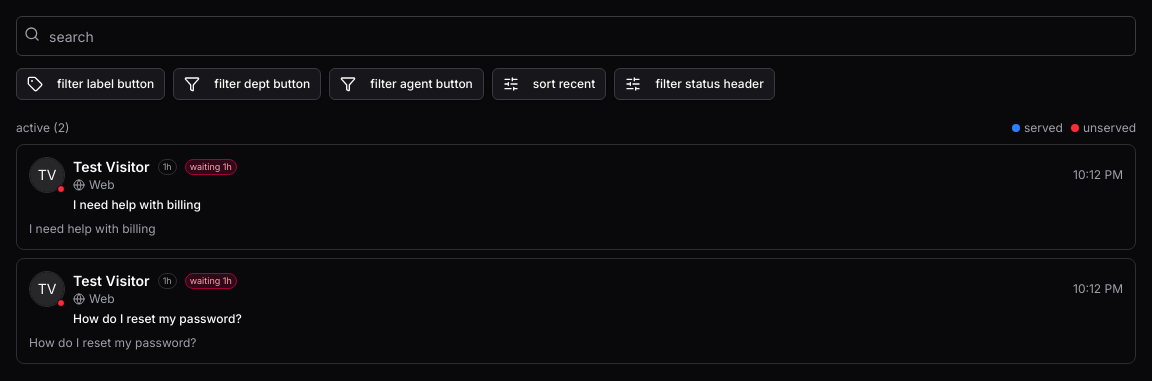
Test: ConversationList search › filters by lastMessage
Type "billing" into the field with placeholder "search" at [576, 36], box [16, 16, 1136, 56]
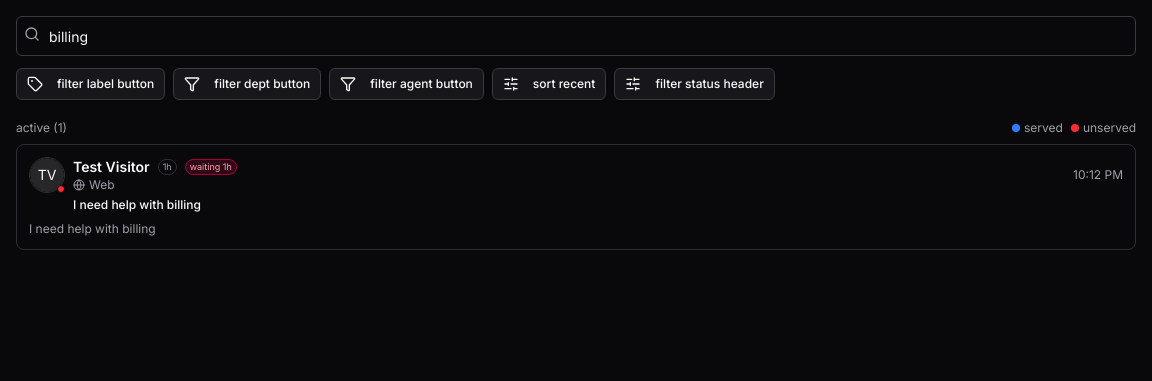
Expected: the 1st text "I need help with billing" is shown, [73, 197, 201, 212]
Now no buttons "How do I reset my password?" are shown
